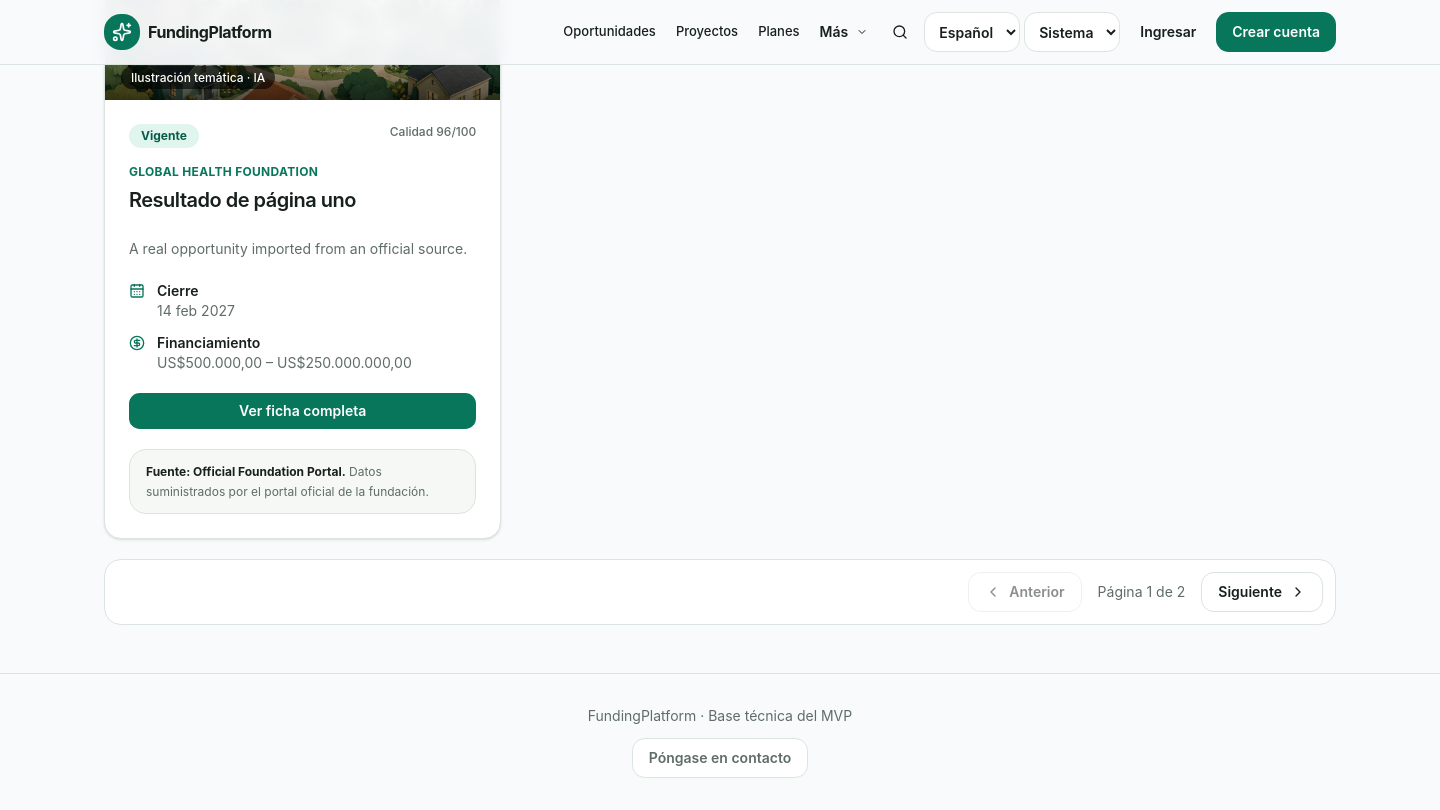
Test case: catálogo público de oportunidades › solicita la página siguiente al servidor cuando hay más de doce resultados
The width and height of the screenshot is (1440, 810).
(page scrolled)
Expected: the heading "Resultado de página uno" is shown, [129,188,356,212]
Click the button "Siguiente". click: point(1262, 592)
box: [1201,572,1323,612]
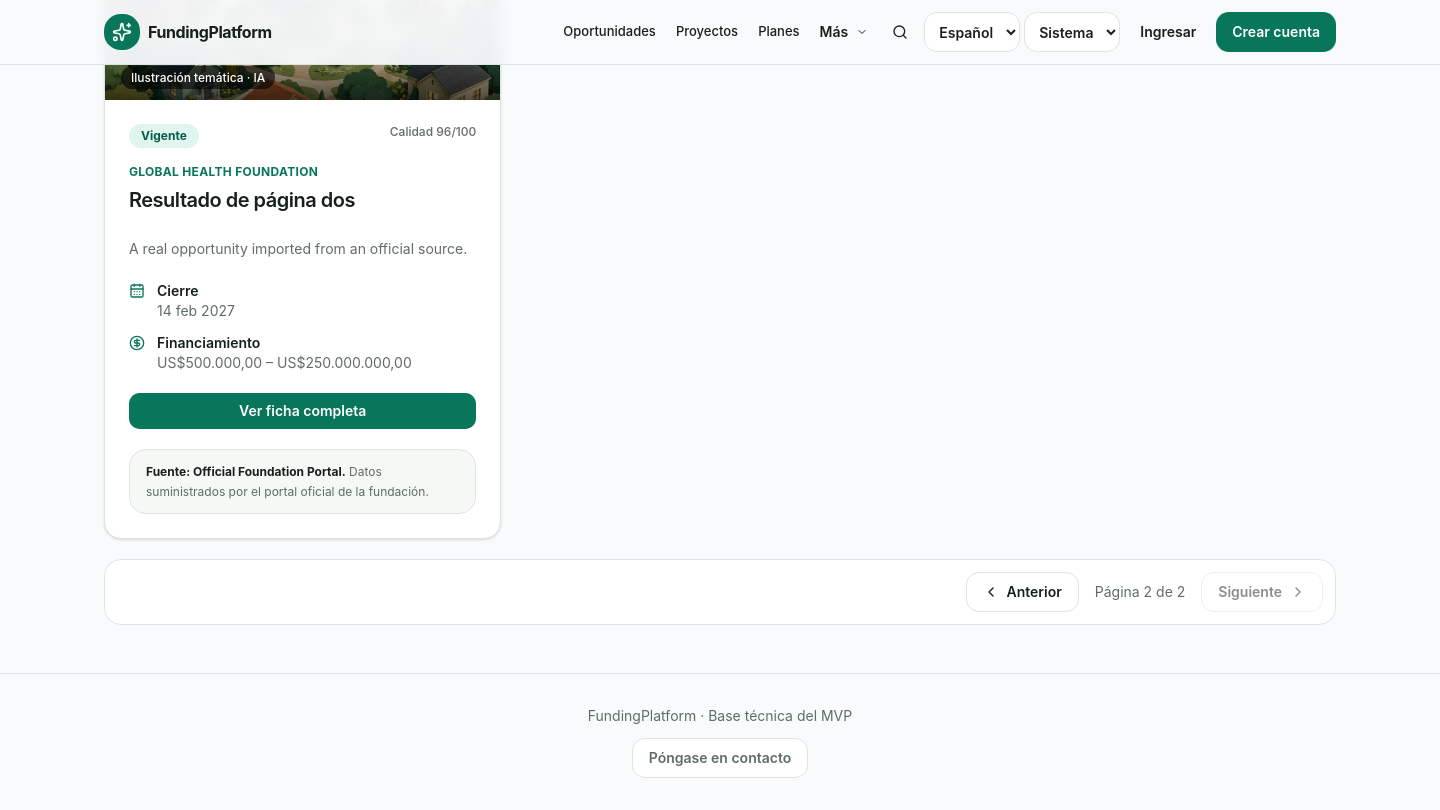
Expected: the heading "Resultado de página dos" is shown, [129,188,355,212]
